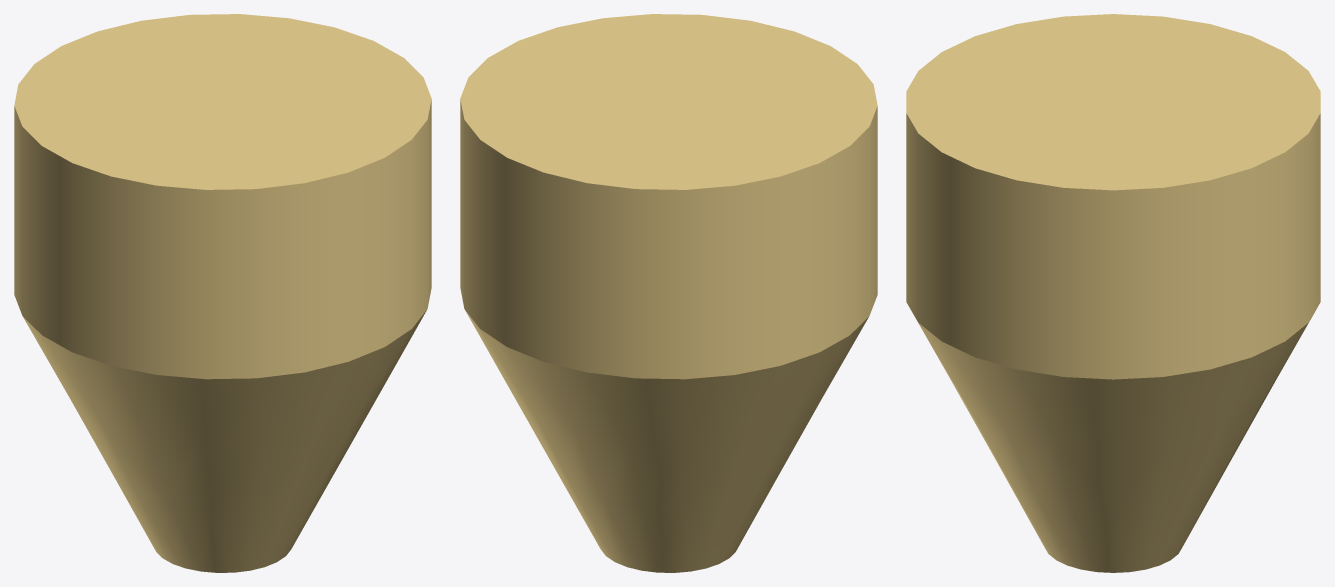
The model's file is printing-nozzle.glb.
3 renders of one model, left to right at view 1: azimuth 30°, elevation 25°; view 2: azimuth 150°, elevation 25°; view 3: azimuth 270°, elevation 25°, orthographic.
Bounding box in the file's own units: 0.006 × 0.007 × 0.00596.
